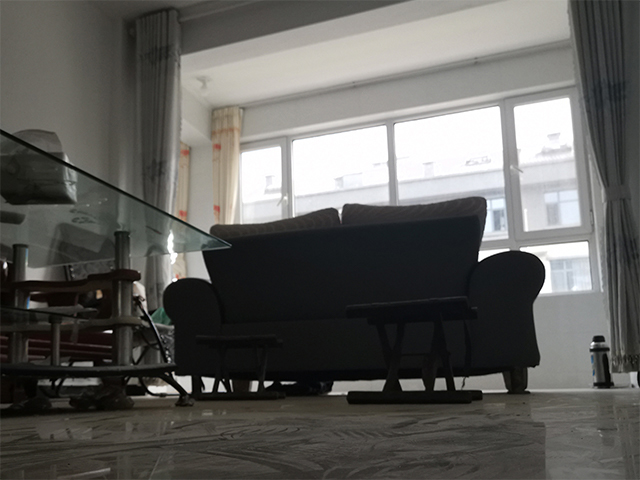curtain: (567, 1, 639, 375), (128, 9, 182, 387), (208, 104, 240, 224)
sofa: (160, 194, 547, 396)
stool: (343, 296, 485, 405), (190, 332, 287, 402)
table: (1, 129, 233, 417)
